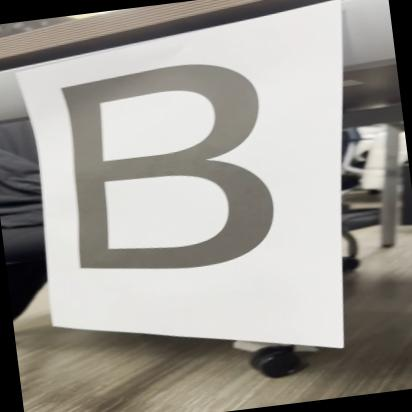seat: (27, 44, 304, 302)
